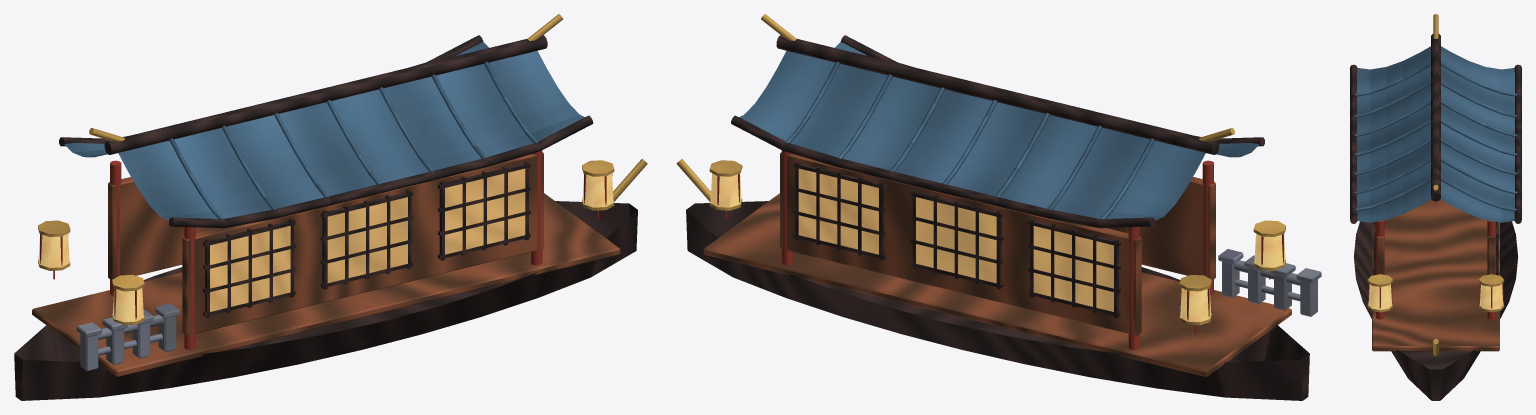
The model's file is model-boat.glb.
The picture shows the model from 3 angles, left to right: view 1: azimuth 30°, elevation 25°; view 2: azimuth 150°, elevation 25°; view 3: azimuth 270°, elevation 25°; orthographic projection. The views are drawn at different scales.
Visible parts, largest first — view 1: model-boat; view 2: model-boat; view 3: model-boat.
Part boxes in pixels (x1,y1,x2,y2): model-boat: [14, 14, 647, 400]; model-boat: [676, 14, 1321, 400]; model-boat: [1350, 14, 1521, 400].
Bounding box in the file's own units: 11.24 × 4.32 × 3.55.
Materials: 8 (8 with a texture image).
